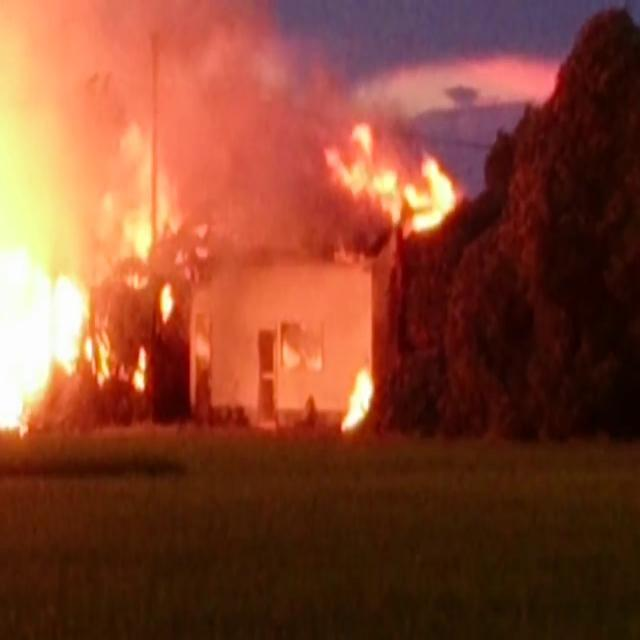Fire: (0, 246, 90, 442), (324, 118, 460, 235), (102, 118, 180, 289), (340, 366, 374, 434), (177, 220, 210, 282), (83, 329, 111, 392), (119, 343, 148, 392), (334, 240, 368, 264), (157, 282, 177, 320), (282, 342, 300, 369), (304, 352, 324, 370)
Smoke: (180, 0, 324, 245), (0, 0, 98, 242), (98, 0, 182, 114)
